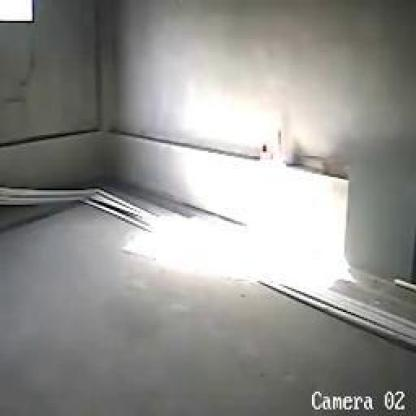other: (150, 87, 355, 288)
